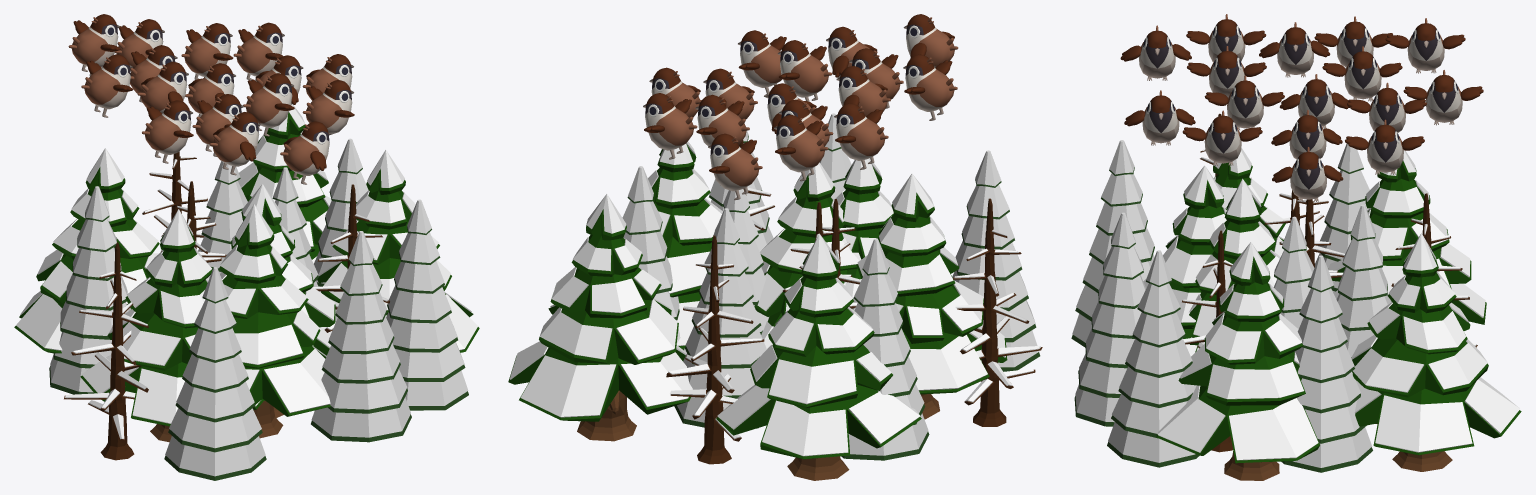
The model's file is Bosque04.glb.
3 views of the same model, side by side, from view 1: azimuth 30°, elevation 25°; view 2: azimuth 150°, elevation 25°; view 3: azimuth 270°, elevation 25° (orthographic). The views are drawn at different scales.
Parts seen in each view (by area): view 1: Cylinder.028, Pine.006, Cylinder.025, Pine.009, Pine.008, Cylinder.021, Pine.007, Cylinder.029, Cylinder.024, Cylinder.022, Cylinder.026, Pine.010 (+20 smaller); view 2: Cylinder.022, Cylinder.021, Cylinder.025, Cylinder.029, Pine.010, Pine.006, Pine.007, Cylinder.026, Cylinder.030, Cylinder.024, Cylinder.028, Pine.003 (+20 smaller); view 3: Cylinder.022, Cylinder.029, Pine.008, Pine.003, Pine.009, Cylinder.021, Pine.006, Cylinder.028, Cylinder.026, Pine.010, Pine.007, Pine.005 (+21 smaller).
Boxes of the visible parts, <box> form: Cylinder.028: <box>219,204,330,438</box>; Pine.006: <box>164,267,266,480</box>; Cylinder.025: <box>80,209,263,442</box>; Pine.009: <box>311,231,411,442</box>; Pine.008: <box>386,199,468,410</box>; Cylinder.021: <box>14,148,159,353</box>; Pine.007: <box>49,186,130,394</box>; Cylinder.029: <box>317,150,479,352</box>; Cylinder.024: <box>64,242,148,460</box>; Cylinder.022: <box>238,104,331,263</box>; Cylinder.026: <box>220,184,335,417</box>; Pine.010: <box>198,161,247,277</box>; Cylinder.022: <box>508,194,692,441</box>; Cylinder.021: <box>716,233,921,480</box>; Cylinder.025: <box>852,173,1007,419</box>; Cylinder.029: <box>648,141,722,348</box>; Pine.010: <box>674,208,766,428</box>; Pine.006: <box>952,150,1040,371</box>; Pine.007: <box>841,238,929,460</box>; Cylinder.026: <box>754,162,861,348</box>; Cylinder.030: <box>666,235,764,464</box>; Cylinder.024: <box>953,198,1042,426</box>; Cylinder.028: <box>835,158,893,297</box>; Pine.003: <box>622,166,686,352</box>; Cylinder.022: <box>1351,233,1521,471</box>; Cylinder.029: <box>1156,242,1319,480</box>; Pine.008: <box>1107,250,1199,467</box>; Pine.003: <box>1281,255,1372,472</box>; Pine.009: <box>1074,212,1146,426</box>; Cylinder.021: <box>1328,150,1486,324</box>; Pine.006: <box>1071,140,1154,347</box>; Cylinder.028: <box>1143,165,1226,356</box>; Cylinder.026: <box>1189,178,1280,352</box>; Pine.010: <box>1336,204,1391,366</box>; Pine.007: <box>1315,143,1369,291</box>; Pine.005: <box>1273,216,1314,328</box>.
Bounding box in the file's own units: 6.74 × 5.45 × 6.38.
Materials: 22 (8 with a texture image).
